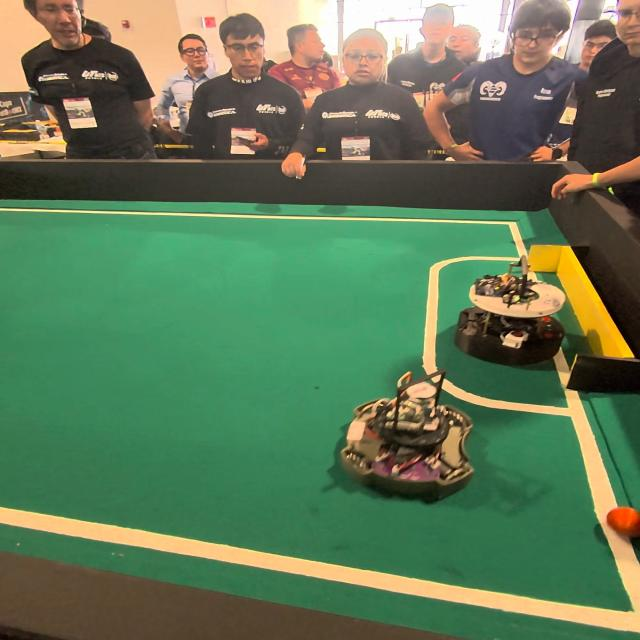Robot: (334, 371, 485, 514), (452, 248, 569, 377)
pelota: (601, 490, 640, 547)
